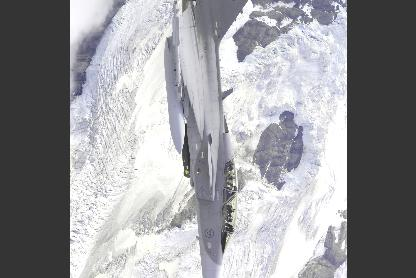JAS39: (164, 0, 266, 277)
